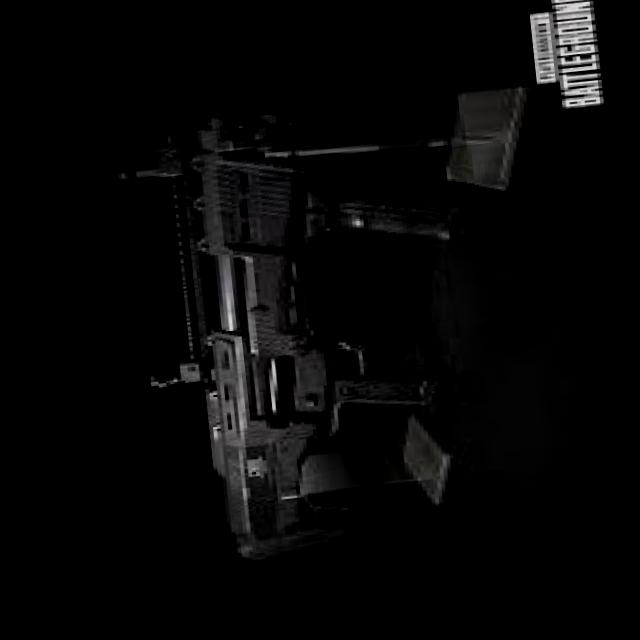long weapon: (131, 91, 523, 573)
